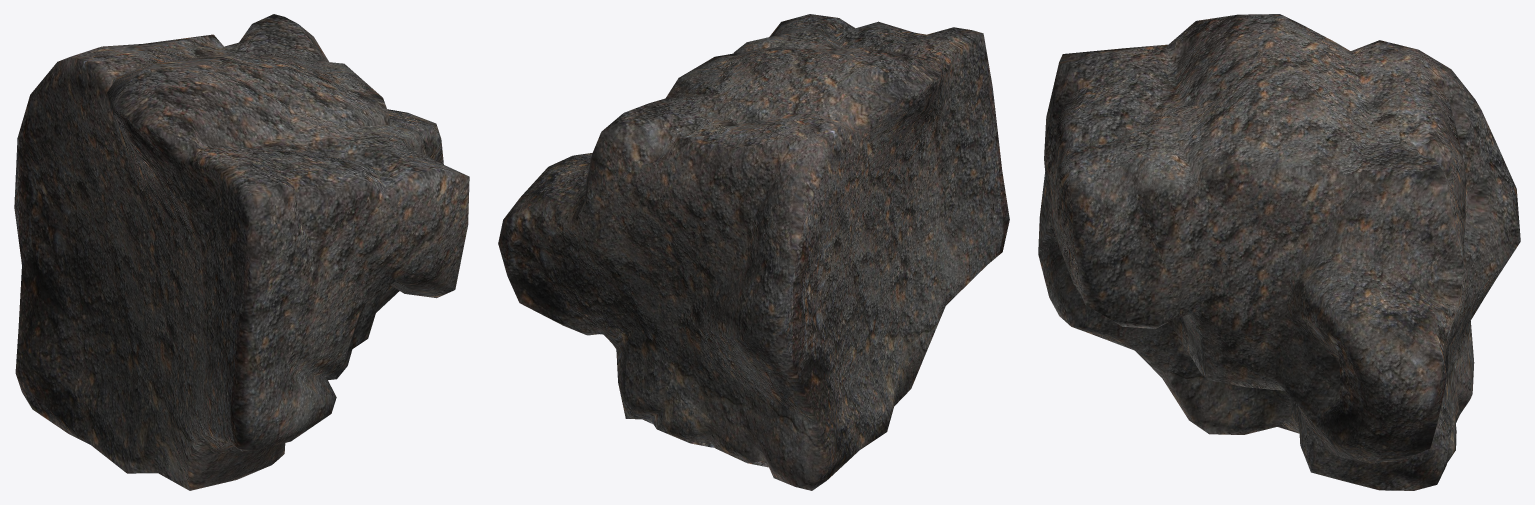
The model's file is prop-stone.glb.
The picture shows the model from 3 angles, left to right: view 1: azimuth 30°, elevation 25°; view 2: azimuth 150°, elevation 25°; view 3: azimuth 270°, elevation 25°; orthographic projection. The views are drawn at different scales.
Visible parts, largest first — view 1: Object_2; view 2: Object_2; view 3: Object_2.
Part boxes in pixels (left/top/right/bottom): Object_2: left=14, top=14, right=469, bottom=490; Object_2: left=498, top=14, right=1009, bottom=490; Object_2: left=1038, top=14, right=1520, bottom=490.
Size of the model in its own units: 1.16 by 1.13 by 1.26.
1 material, 1 textured.
